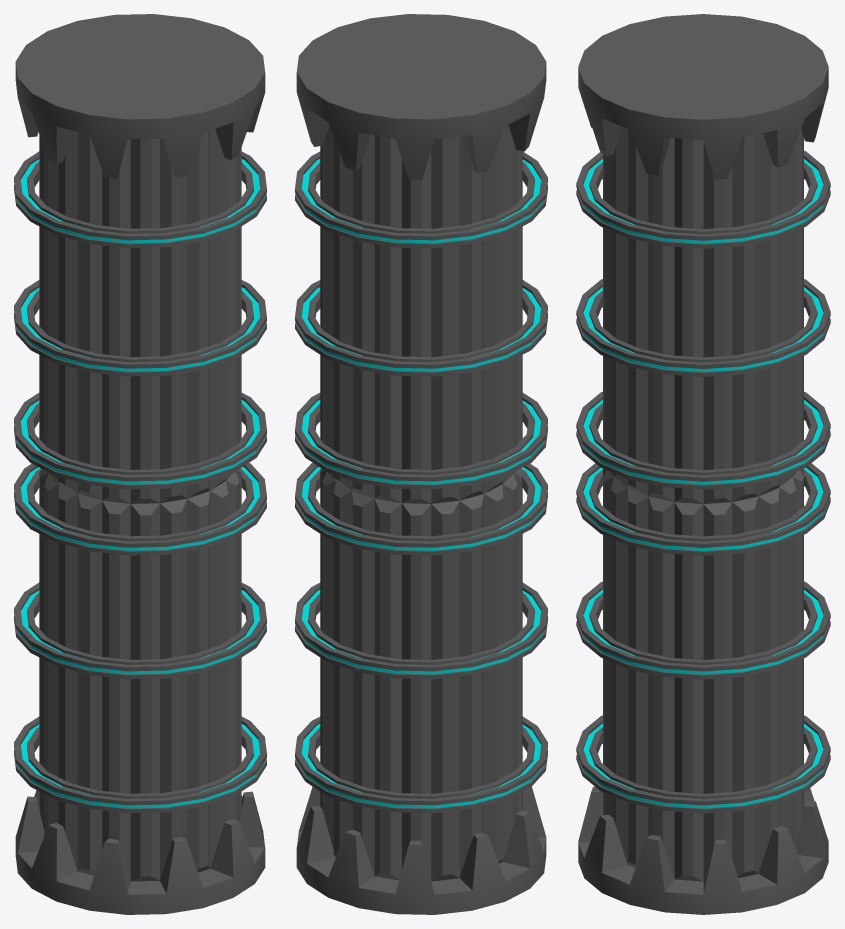
The model's file is future_pillar.fbx.
The picture shows the model from 3 angles, left to right: view 1: azimuth 30°, elevation 25°; view 2: azimuth 150°, elevation 25°; view 3: azimuth 270°, elevation 25°; orthographic projection.
Visible parts, largest first — view 1: polySurface85; view 2: polySurface85; view 3: polySurface85.
Part boxes in pixels (x1,y1,x2,y2): polySurface85: (14,14,266,914); polySurface85: (295,14,547,914); polySurface85: (576,14,830,914).
Size of the model in its own units: 0.4671 by 1.61 by 0.4671.
